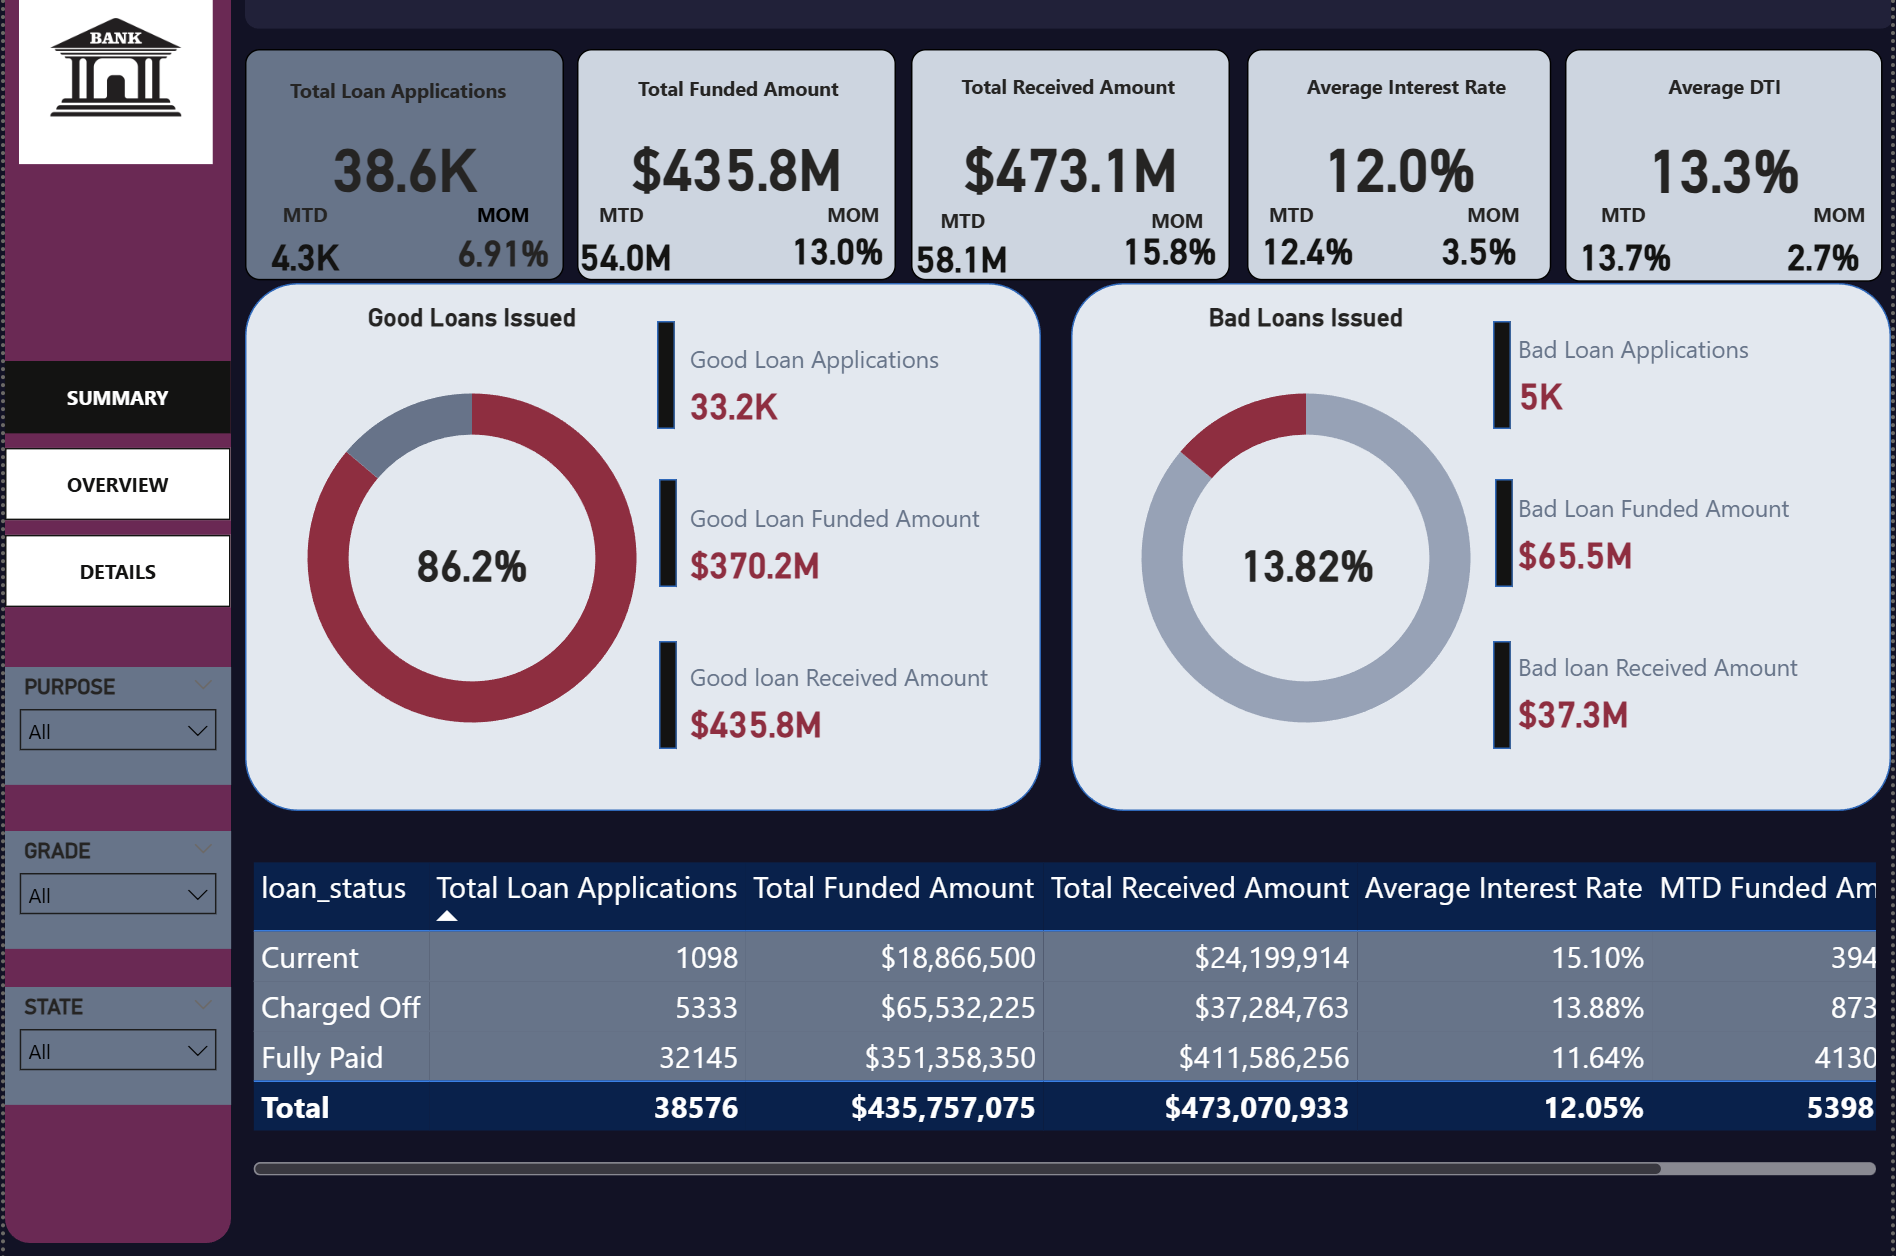

This screenshot's page, from the dashboard's own definition file:
{"tool":"powerbi","page":{"name":"SUMMARY","canvas":[1280,900],"ordinal":0},"visuals":[{"type":"shape","box":[163.2,0,1119.4,66.3],"z":0},{"type":"textbox","box":[530.4,0,470.4,66.3],"z":1000},{"type":"shape","box":[0,0,153.4,890.5],"z":2000},{"type":"card","fields":{"Values":["financial_loan_full.Total Loan Applications"]},"box":[163.2,80.3,216.7,156.8],"z":3000},{"type":"textbox","box":[172.1,93.1,188.7,31.9],"z":4000},{"type":"card","fields":{"Values":["financial_loan_full.MTD Loan Application"]},"box":[172.1,205.3,62.5,31.9],"z":5000},{"type":"textbox","box":[172.1,177.2,62.5,28],"z":6000},{"type":"textbox","box":[295.8,177.2,84.1,28],"z":7000},{"type":"card","title":"Total Funded Amount","fields":{"Values":["financial_loan_full.Total Funded Amount"]},"box":[388.8,80.3,216.7,156.8],"z":8000},{"type":"card","fields":{"Values":["financial_loan_full.Total Received Amount"]},"box":[614.5,80.3,216.7,156.8],"z":9000},{"type":"card","fields":{"Values":["financial_loan_full.Average Interest Rate"]},"box":[842.7,80.3,206.5,156.8],"z":10000},{"type":"card","fields":{"Values":["financial_loan_full.Average DTI"]},"box":[1059.4,80.3,215.5,158.1],"z":11000},{"type":"card","fields":{"Values":["financial_loan_full.MOM Loan Application"]},"box":[286.9,196.3,103.3,42.1],"z":12000},{"type":"textbox","box":[406.7,91.8,181,31.9],"z":13000},{"type":"textbox","box":[388.8,177.2,59.9,28],"z":14000},{"type":"textbox","box":[545.7,177.2,59.9,28],"z":15000},{"type":"card","fields":{"Values":["financial_loan_full.MTD Funded Amount"]},"box":[379.9,205.3,81.6,31.9],"z":16000},{"type":"card","fields":{"Values":["financial_loan_full.MOM Funded Amount"]},"box":[524,201.4,81.6,31.9],"z":17000},{"type":"textbox","box":[628.5,90.5,186.1,34.4],"z":18000},{"type":"textbox","box":[614.5,182.3,70.1,28],"z":19000},{"type":"textbox","box":[766.2,182.3,59.9,28],"z":20000},{"type":"card","fields":{"Values":["financial_loan_full.MTD Recieved Amount"]},"box":[608.1,206.5,81.6,31.9],"z":21000},{"type":"card","fields":{"Values":["financial_loan_full.MOM Received Amount"]},"box":[749.6,201.4,81.6,31.9],"z":22000},{"type":"textbox","box":[860.6,90.5,181,31.9],"z":23000},{"type":"textbox","box":[970.2,178.5,79,28],"z":24000},{"type":"textbox","box":[842.7,178.5,59.9,28],"z":25000},{"type":"card","fields":{"Values":["financial_loan_full.MTD Average rate"]},"box":[842.7,201.4,81.6,31.9],"z":26000},{"type":"card","fields":{"Values":["financial_loan_full.MOM Average Interest Rate"]},"box":[960,201.4,81.6,31.9],"z":27000},{"type":"textbox","box":[1068.4,90.5,197.6,31.9],"z":28000},{"type":"textbox","box":[1215,178.5,59.9,28],"z":29000},{"type":"textbox","box":[1068.4,178.5,59.9,28],"z":30000},{"type":"card","fields":{"Values":["financial_loan_full.MTD average DTI"]},"box":[1059.4,205.3,81.6,31.9],"z":31000},{"type":"card","fields":{"Values":["financial_loan_full.MOM Average DTI"]},"box":[1193.3,205.3,81.6,31.9],"z":32000},{"type":"shape","box":[162.9,238.9,540.3,358.4],"z":33000},{"type":"shape","box":[723.5,238.9,556.6,358.4],"z":34000},{"type":"donutChart","title":"Good Loans Issued","fields":{"Category":["financial_loan_full.Good vs Bad Loan"],"Y":["financial_loan_full.Total Loan Applications"]},"box":[172.4,252.5,289.1,327.1],"z":35000},{"type":"card","fields":{"Values":["financial_loan_full.Good Loan %"]},"box":[266.1,397.7,101.8,62.4],"z":36000},{"type":"cardVisual","fields":{"Data":["financial_loan_full.Good Loan Applications","financial_loan_full.Good Loan Funded Amount","financial_loan_full.Good loan Received Amount"]},"box":[448,252.5,243,327.1],"z":37000},{"type":"shape","box":[442.5,264.7,12.2,73.3],"z":38000},{"type":"shape","box":[443.9,371.9,12.2,73.3],"z":39000},{"type":"shape","box":[443.9,481.9,12.2,73.3],"z":40000},{"type":"donutChart","title":"Bad Loans Issued","fields":{"Category":["financial_loan_full.Good vs Bad Loan"],"Y":["financial_loan_full.Total Loan Applications"]},"box":[738.5,252.5,289.1,327.1],"z":41000},{"type":"cardVisual","fields":{"Data":["financial_loan_full.Bad Loan Applications","financial_loan_full.Bad Loan Funded Amount","financial_loan_full.Bad loan Received Amount"]},"box":[1010,245.7,243,327.1],"z":42000},{"type":"shape","box":[1010,264.7,12.2,73.3],"z":43000},{"type":"shape","box":[1011.3,371.9,12.2,73.3],"z":44000},{"type":"shape","box":[1010,481.9,12.2,73.3],"z":45000},{"type":"card","fields":{"Values":["financial_loan_full.Bad Loan %"]},"box":[832.1,397.7,103.2,62.4],"z":46000},{"type":"tableEx","fields":{"Values":["financial_loan_full.loan_status","financial_loan_full.Total Loan Applications","financial_loan_full.Total Funded Amount","financial_loan_full.Total Received Amount","financial_loan_full.Average Interest Rate","financial_loan_full.MTD Funded Amount","financial_loan_full.Average DTI"]},"box":[162.9,627.1,1111.8,222.6],"z":47000},{"type":"slicer","fields":{"Values":["financial_loan_full.purpose"]},"box":[0,499.5,153.4,80.1],"z":48000},{"type":"slicer","fields":{"Values":["financial_loan_full.grade"]},"box":[0,610.9,153.4,80.1],"z":49000},{"type":"slicer","fields":{"Values":["financial_loan_full.address_state"]},"box":[0,716.7,153.4,80.1],"z":50000},{"type":"pageNavigator","box":[0,291.9,153.4,168.3],"z":51000},{"type":"image","box":[0,21.4,150,141.4],"z":51001}]}

Visuals, with their boxes in screenshot pixels (x1, y1, x2, y2):
shape: box=[241, 0, 1895, 19]
textbox: box=[783, 0, 1478, 19]
shape: box=[0, 0, 227, 1236]
card - financial_loan_full.Total Loan Applications: box=[241, 40, 561, 271]
textbox: box=[254, 59, 533, 106]
card - financial_loan_full.MTD Loan Application: box=[254, 224, 347, 271]
textbox: box=[254, 183, 347, 224]
textbox: box=[437, 183, 561, 224]
"Total Funded Amount" card: box=[574, 40, 894, 271]
card - financial_loan_full.Total Received Amount: box=[908, 40, 1228, 271]
card - financial_loan_full.Average Interest Rate: box=[1245, 40, 1550, 271]
card - financial_loan_full.Average DTI: box=[1565, 40, 1883, 273]
card - financial_loan_full.MOM Loan Application: box=[424, 211, 576, 273]
textbox: box=[601, 57, 868, 104]
textbox: box=[574, 183, 663, 224]
textbox: box=[806, 183, 895, 224]
card - financial_loan_full.MTD Funded Amount: box=[561, 224, 682, 271]
card - financial_loan_full.MOM Funded Amount: box=[774, 218, 895, 266]
textbox: box=[928, 55, 1203, 105]
textbox: box=[908, 190, 1011, 232]
textbox: box=[1132, 190, 1220, 232]
card - financial_loan_full.MTD Recieved Amount: box=[898, 226, 1019, 273]
card - financial_loan_full.MOM Received Amount: box=[1107, 218, 1228, 266]
textbox: box=[1271, 55, 1539, 102]
textbox: box=[1433, 185, 1550, 226]
textbox: box=[1245, 185, 1333, 226]
card - financial_loan_full.MTD Average rate: box=[1245, 218, 1365, 266]
card - financial_loan_full.MOM Average Interest Rate: box=[1418, 218, 1539, 266]
textbox: box=[1578, 55, 1870, 102]
textbox: box=[1795, 185, 1883, 226]
textbox: box=[1578, 185, 1667, 226]
card - financial_loan_full.MTD average DTI: box=[1565, 224, 1685, 271]
card - financial_loan_full.MOM Average DTI: box=[1763, 224, 1883, 271]
shape: box=[241, 274, 1039, 803]
shape: box=[1069, 274, 1891, 803]
"Good Loans Issued" donutChart: box=[255, 294, 682, 777]
card - financial_loan_full.Good Loan %: box=[393, 508, 543, 601]
cardVisual - financial_loan_full.Good Loan Applications x financial_loan_full.Good Loan Funded Amount: box=[662, 294, 1021, 777]
shape: box=[654, 312, 672, 420]
shape: box=[656, 470, 674, 579]
shape: box=[656, 633, 674, 741]
"Bad Loans Issued" donutChart: box=[1091, 294, 1518, 777]
cardVisual - financial_loan_full.Bad Loan Applications x financial_loan_full.Bad Loan Funded Amount: box=[1492, 284, 1851, 767]
shape: box=[1492, 312, 1510, 420]
shape: box=[1494, 470, 1512, 579]
shape: box=[1492, 633, 1510, 741]
card - financial_loan_full.Bad Loan %: box=[1229, 508, 1382, 601]
tableEx - financial_loan_full.loan_status x financial_loan_full.Total Loan Applications: box=[241, 847, 1883, 1176]
slicer - financial_loan_full.purpose: box=[0, 659, 227, 777]
slicer - financial_loan_full.grade: box=[0, 823, 227, 942]
slicer - financial_loan_full.address_state: box=[0, 980, 227, 1098]
pageNavigator: box=[0, 352, 227, 601]
image: box=[0, 0, 222, 161]
